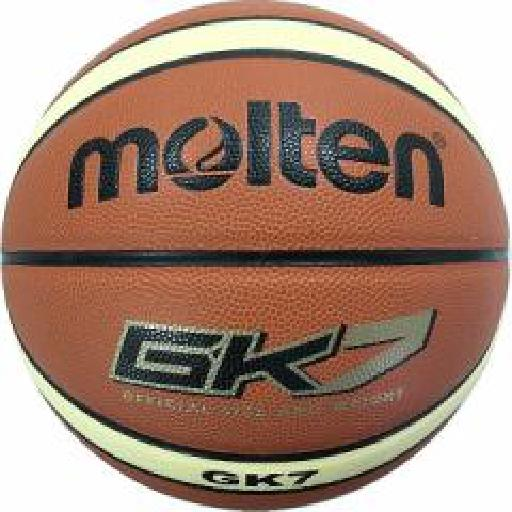ball: (2, 1, 512, 510)
